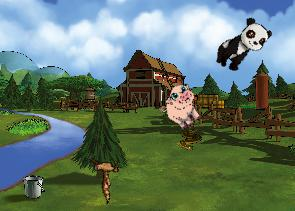eagle: (77, 145, 134, 204)
panda: (210, 13, 274, 78)
pig: (155, 79, 210, 135)
